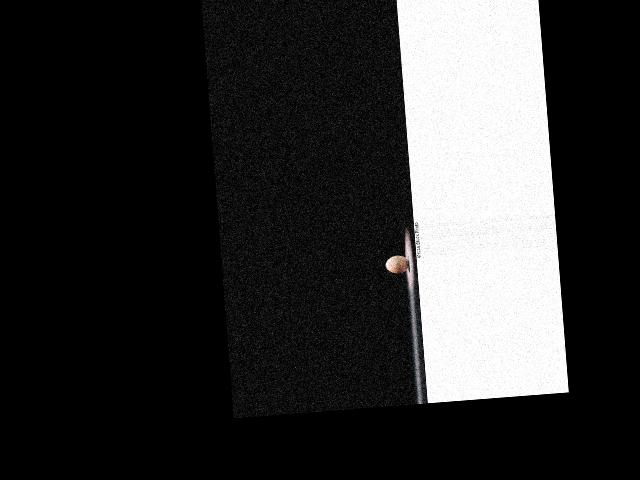egg: (385, 254, 409, 274)
